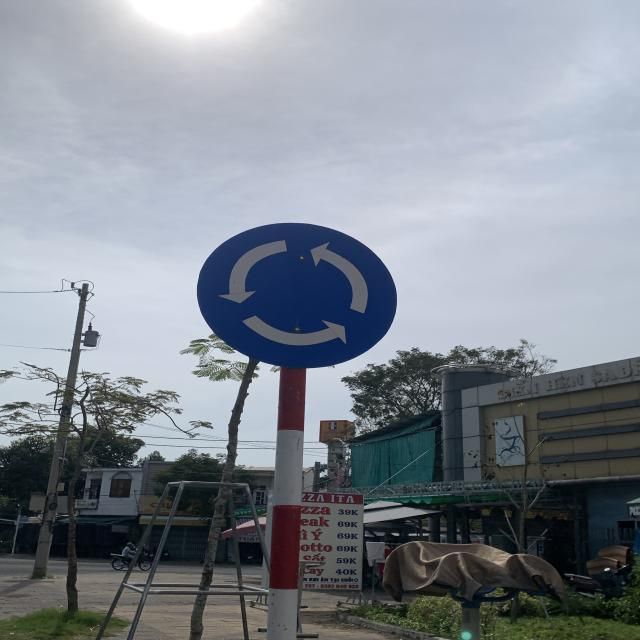Xe_Bus: (197, 222, 402, 370)
